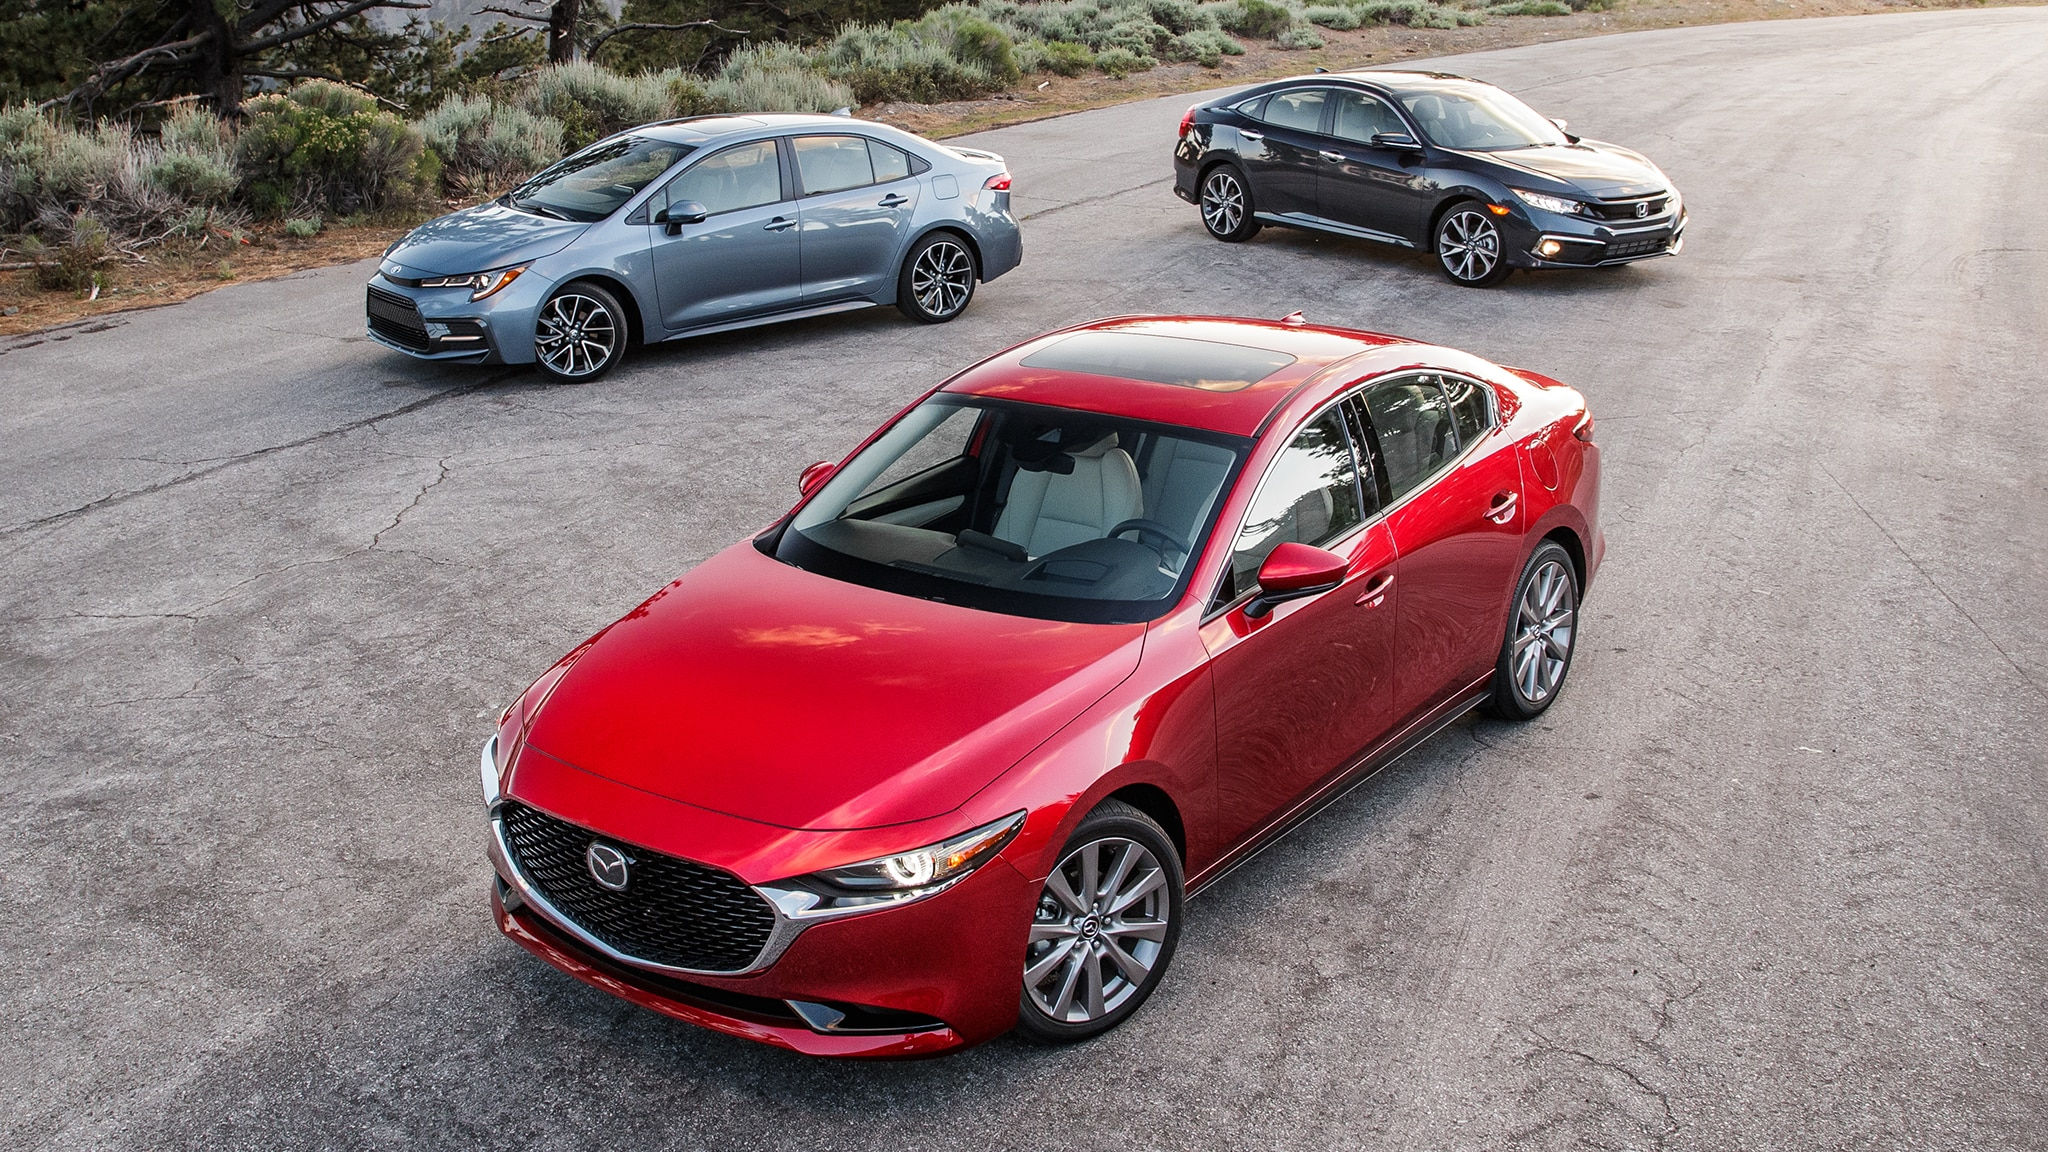car: (475, 314, 1605, 1063), (363, 113, 1023, 383), (1172, 68, 1684, 288)
